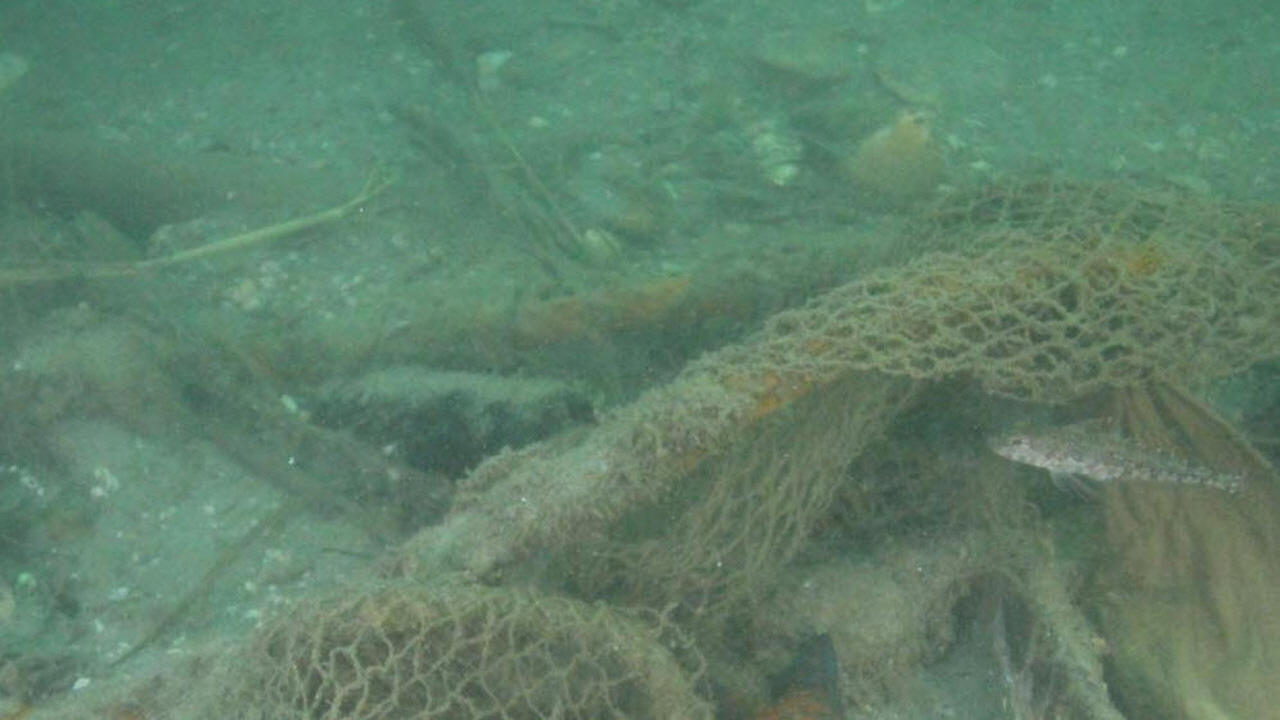fish net: (258, 173, 1280, 720)
